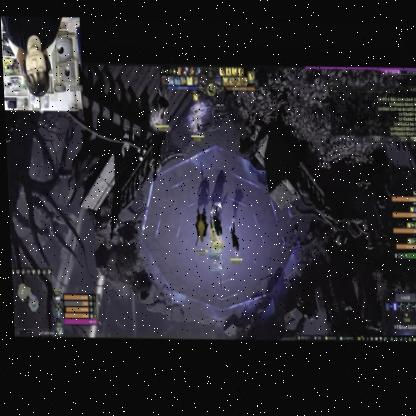streamer: (1, 16, 64, 98)
